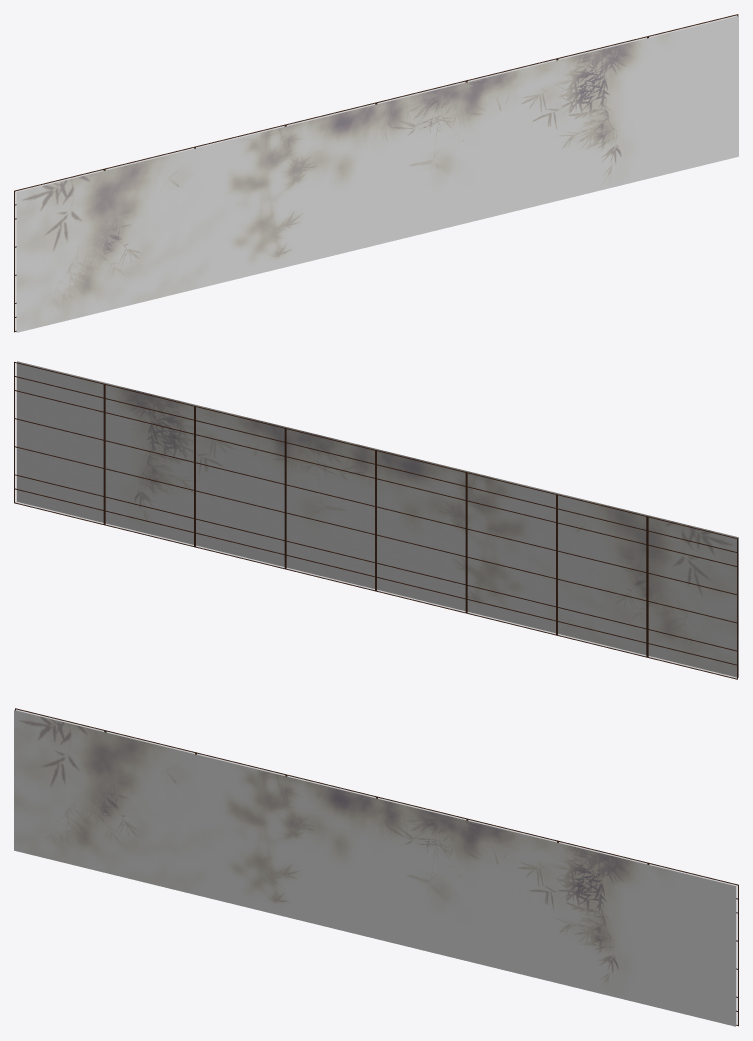
Rendered from Screen-Test-3-sunny.fbx.
The picture shows the model from 3 angles, top to bottom: view 1: azimuth 30°, elevation 25°; view 2: azimuth 150°, elevation 25°; view 3: azimuth 330°, elevation 25°; orthographic projection.
Parts seen in each view (by area): view 1: Cube.002, Cube.001, Cube.000; view 2: Cube.002, Cube.000, Cube.001; view 3: Cube.002, Cube.001, Cube.000.
Part boxes in pixels (bbox=[...]): Cube.002: bbox=[16, 16, 738, 332]; Cube.001: bbox=[14, 14, 738, 332]; Cube.000: bbox=[15, 15, 736, 330]; Cube.002: bbox=[17, 361, 738, 677]; Cube.000: bbox=[15, 363, 736, 678]; Cube.001: bbox=[14, 361, 737, 679]; Cube.002: bbox=[14, 710, 735, 1026]; Cube.001: bbox=[15, 708, 738, 1026]; Cube.000: bbox=[16, 709, 737, 1024].
Size of the model in its own units: 1078 by 201 by 5.1.
3 materials, 3 textured.
